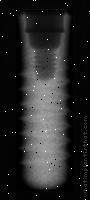Straumann ITI: (16, 10, 73, 191)
